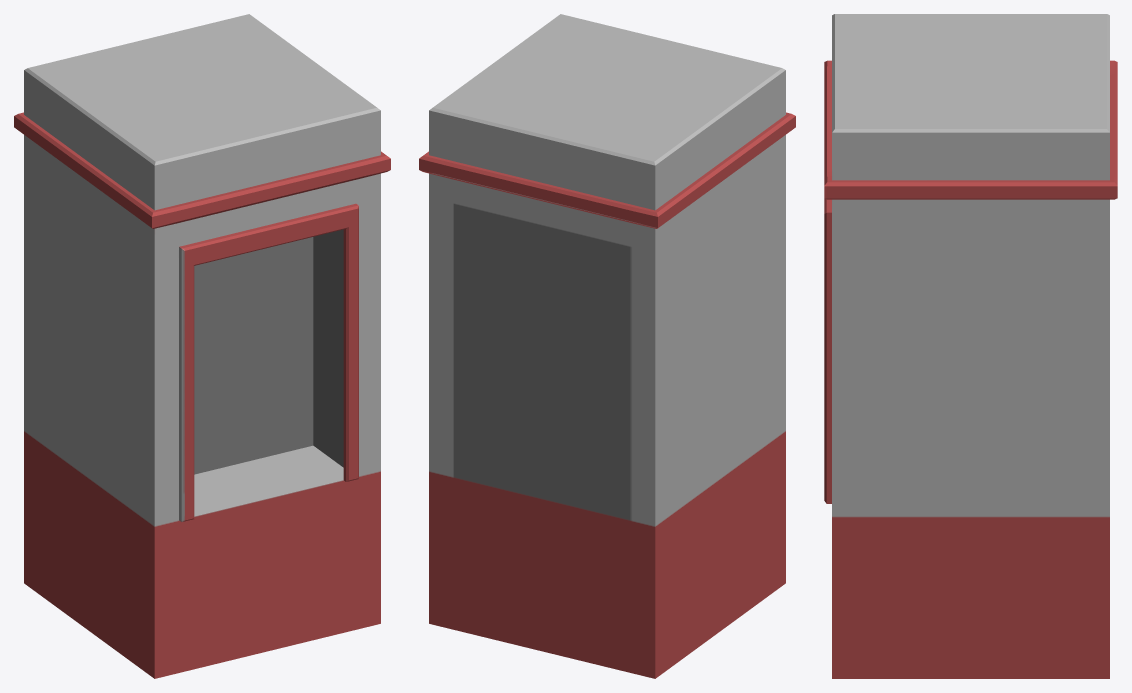
File: redGate.fbx
3 views of the same model, side by side, from view 1: azimuth 30°, elevation 25°; view 2: azimuth 150°, elevation 25°; view 3: azimuth 270°, elevation 25° (orthographic). The views are drawn at different scales.
Parts seen in each view (by area): view 1: redGate; view 2: redGate; view 3: redGate.
Part boxes in pixels (<box>): redGate: <box>14,14,390,678</box>; redGate: <box>419,14,795,678</box>; redGate: <box>824,14,1117,678</box>.
Bounding box in the file's own units: 106 × 218 × 106.
1 material, 1 textured.
